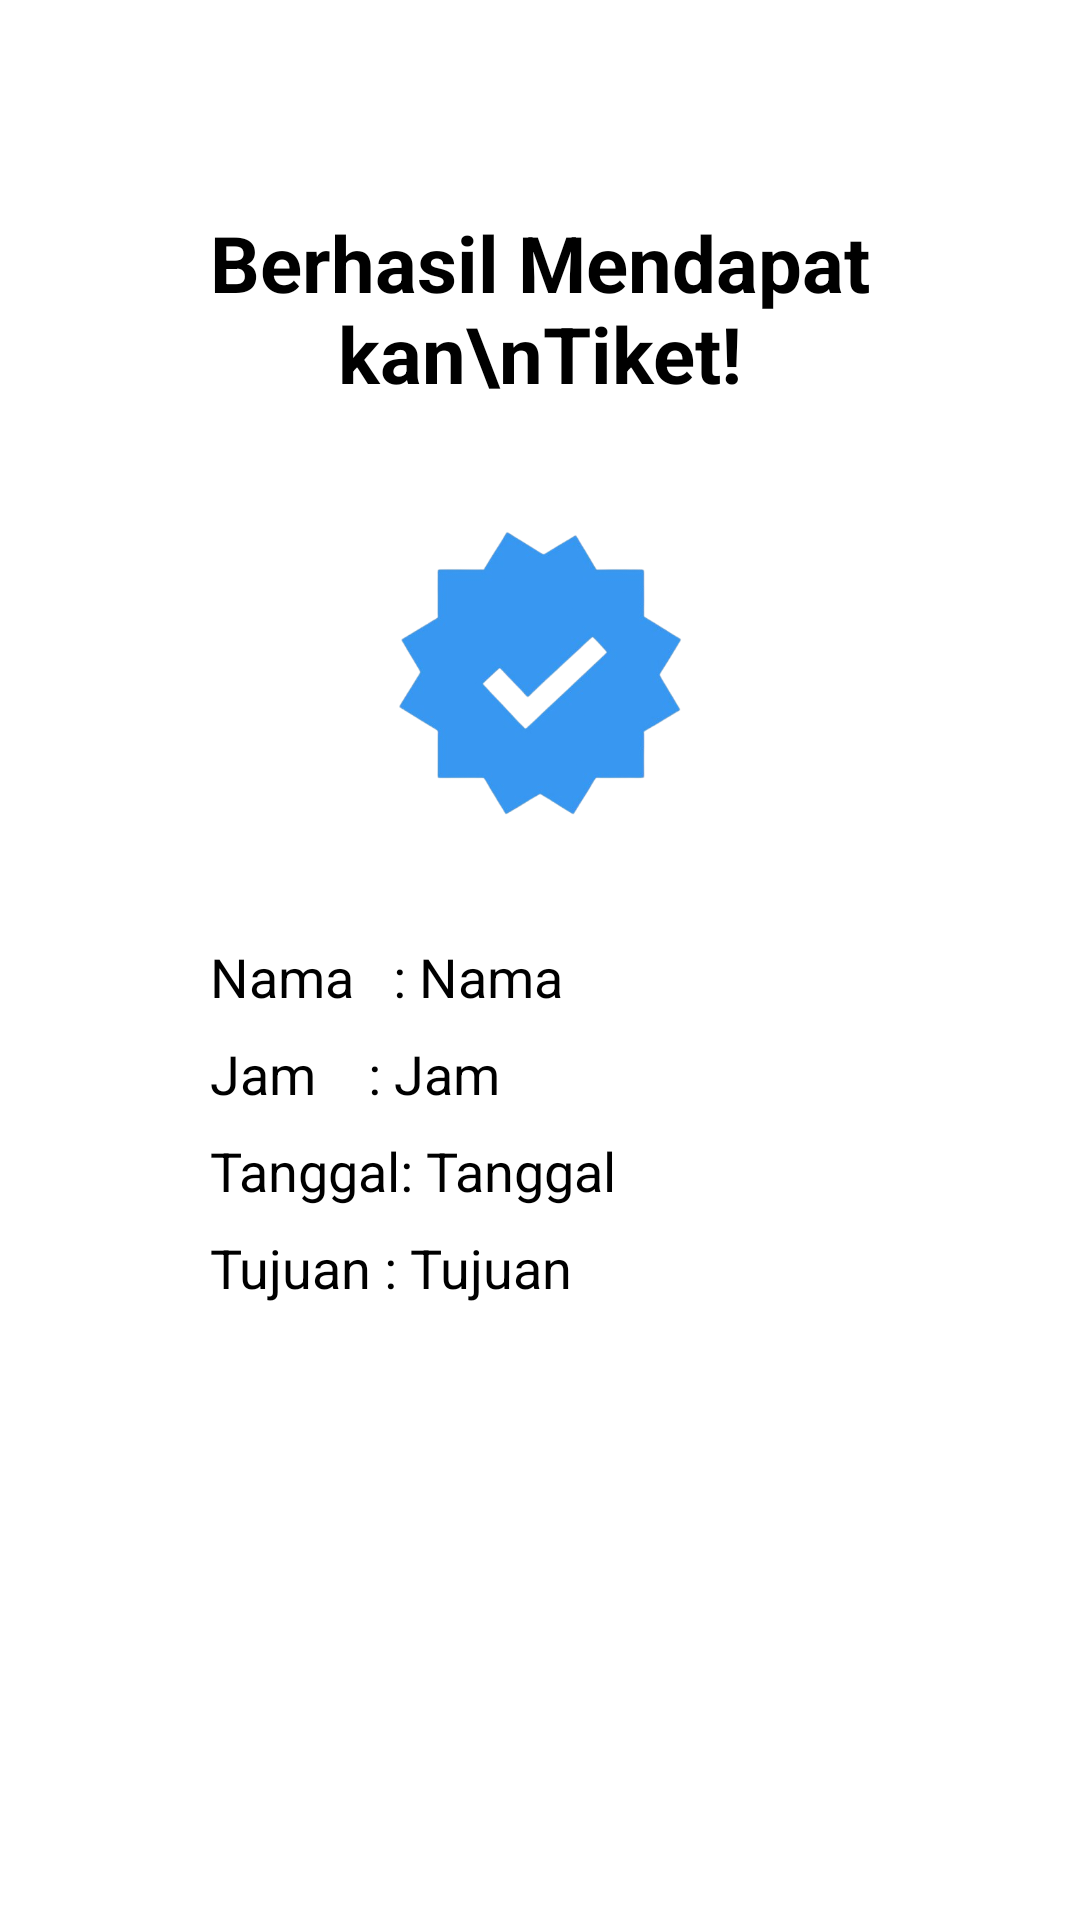

Icon bounding boxes for this 1080 × 1920 phone screenshot, format (x1, y1, x2, y2):
success: (399, 532, 681, 814)
